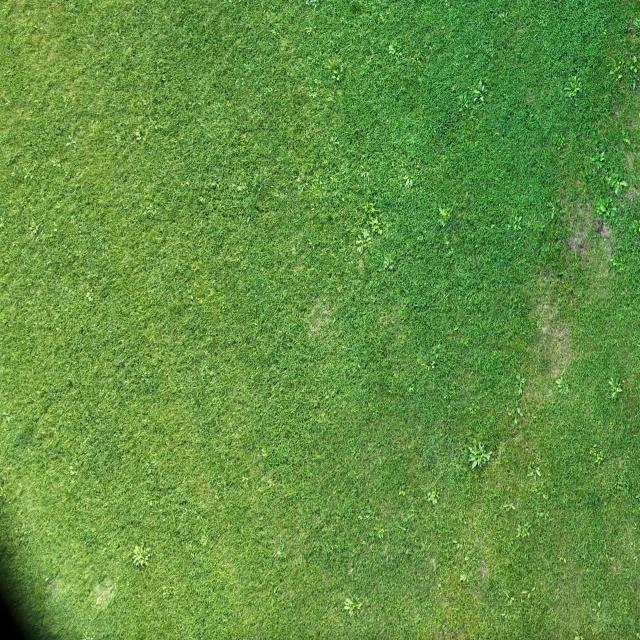rumex: (430, 514, 501, 610), (132, 112, 167, 152), (608, 48, 638, 92), (248, 172, 272, 204), (24, 215, 47, 242), (465, 83, 486, 106), (355, 230, 373, 254), (553, 374, 571, 397), (612, 252, 629, 275), (507, 213, 525, 234), (228, 181, 248, 198), (386, 39, 403, 58), (589, 152, 607, 169), (605, 174, 622, 191), (516, 522, 532, 539), (553, 132, 567, 151), (624, 56, 638, 74), (515, 377, 525, 402), (383, 257, 398, 273), (142, 203, 158, 218), (568, 81, 582, 98), (595, 199, 609, 215), (612, 182, 627, 196), (402, 173, 414, 190), (546, 204, 558, 220), (379, 196, 395, 208), (373, 525, 386, 539), (330, 68, 342, 83), (471, 80, 483, 94), (160, 584, 174, 596), (364, 202, 376, 215), (426, 492, 438, 505), (440, 208, 451, 222), (398, 308, 409, 322), (498, 11, 509, 24), (349, 3, 360, 16), (502, 501, 516, 511), (276, 544, 286, 557), (568, 90, 578, 103), (458, 94, 467, 108), (84, 288, 94, 300), (334, 190, 344, 202), (622, 135, 632, 147), (531, 467, 541, 479), (307, 0, 319, 10), (200, 533, 209, 546), (29, 219, 37, 233), (594, 454, 604, 464), (65, 378, 74, 389), (209, 181, 218, 191), (426, 362, 435, 372), (388, 45, 397, 55), (452, 540, 461, 550), (615, 72, 624, 82), (546, 200, 555, 210), (482, 452, 491, 462), (374, 224, 382, 235), (398, 487, 406, 498), (82, 632, 93, 640), (555, 270, 566, 278), (362, 228, 369, 240), (608, 67, 617, 76), (327, 542, 336, 551), (304, 28, 314, 36), (618, 180, 628, 188), (460, 572, 468, 582), (470, 437, 478, 447), (178, 498, 188, 506), (573, 633, 584, 640), (610, 391, 618, 400), (555, 377, 563, 386), (350, 602, 358, 611), (140, 558, 148, 567), (135, 131, 142, 141), (357, 244, 364, 254), (635, 218, 640, 232), (348, 565, 355, 575), (452, 324, 460, 332), (408, 384, 415, 393), (272, 583, 278, 593), (635, 17, 640, 29), (198, 196, 205, 204), (361, 171, 368, 179), (54, 160, 61, 168), (378, 13, 385, 21), (44, 576, 51, 584), (516, 373, 522, 382), (516, 406, 522, 415), (79, 327, 85, 336), (2, 410, 9, 417), (508, 408, 514, 416), (560, 556, 566, 564), (599, 154, 605, 162), (69, 467, 75, 475), (514, 418, 519, 427), (66, 140, 72, 147), (241, 476, 248, 482), (0, 219, 5, 227), (22, 522, 27, 530), (616, 387, 622, 393), (636, 553, 640, 562), (46, 260, 51, 267), (86, 291, 91, 297)
